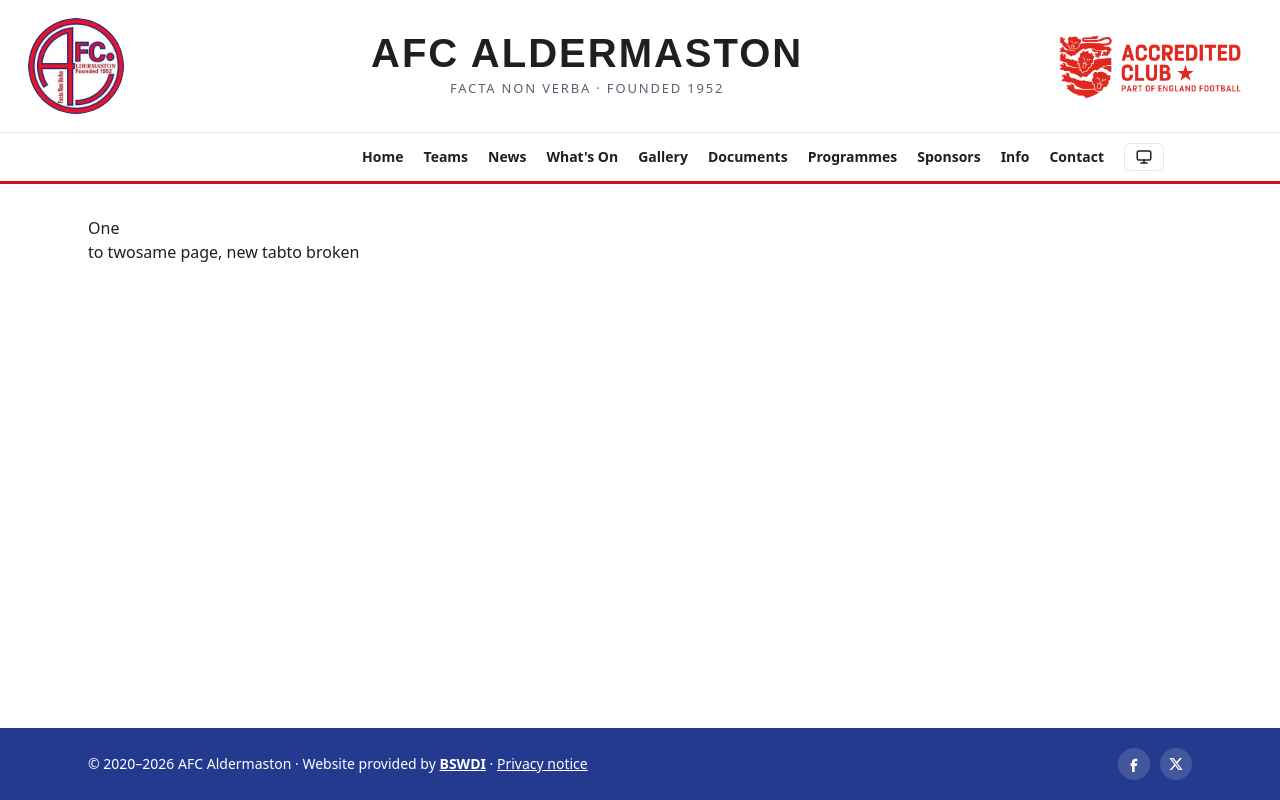
Test: Layout › keeps the shell and explains when a page fails to render
The width and height of the screenshot is (1280, 800).
Click the link "to broken": (323, 252) [286, 241, 359, 263]
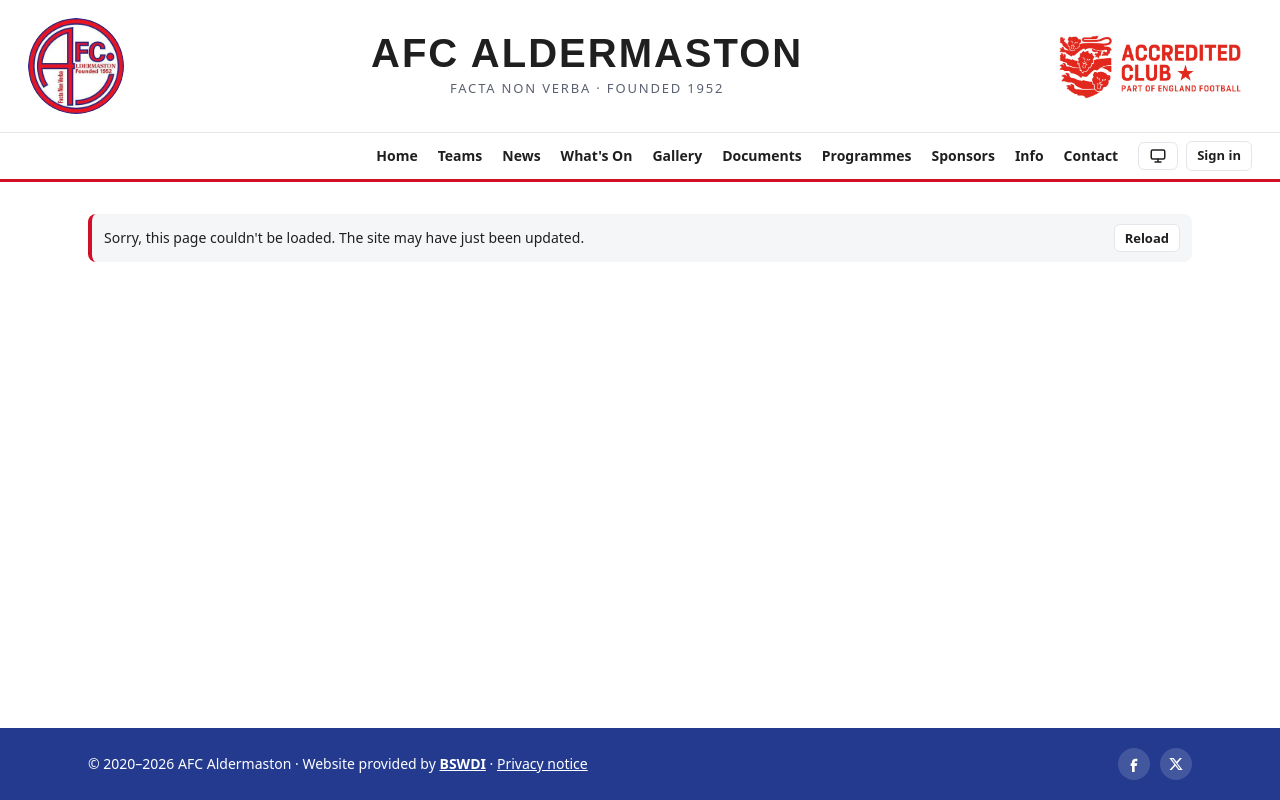
Expected: the navigation bar named "Main" is shown, [0, 132, 1279, 182]
Result: the message shows "Sorry, this page couldn't be loaded" at [104, 228, 584, 247]
Result: the button "Reload" is shown at [1114, 224, 1180, 252]
